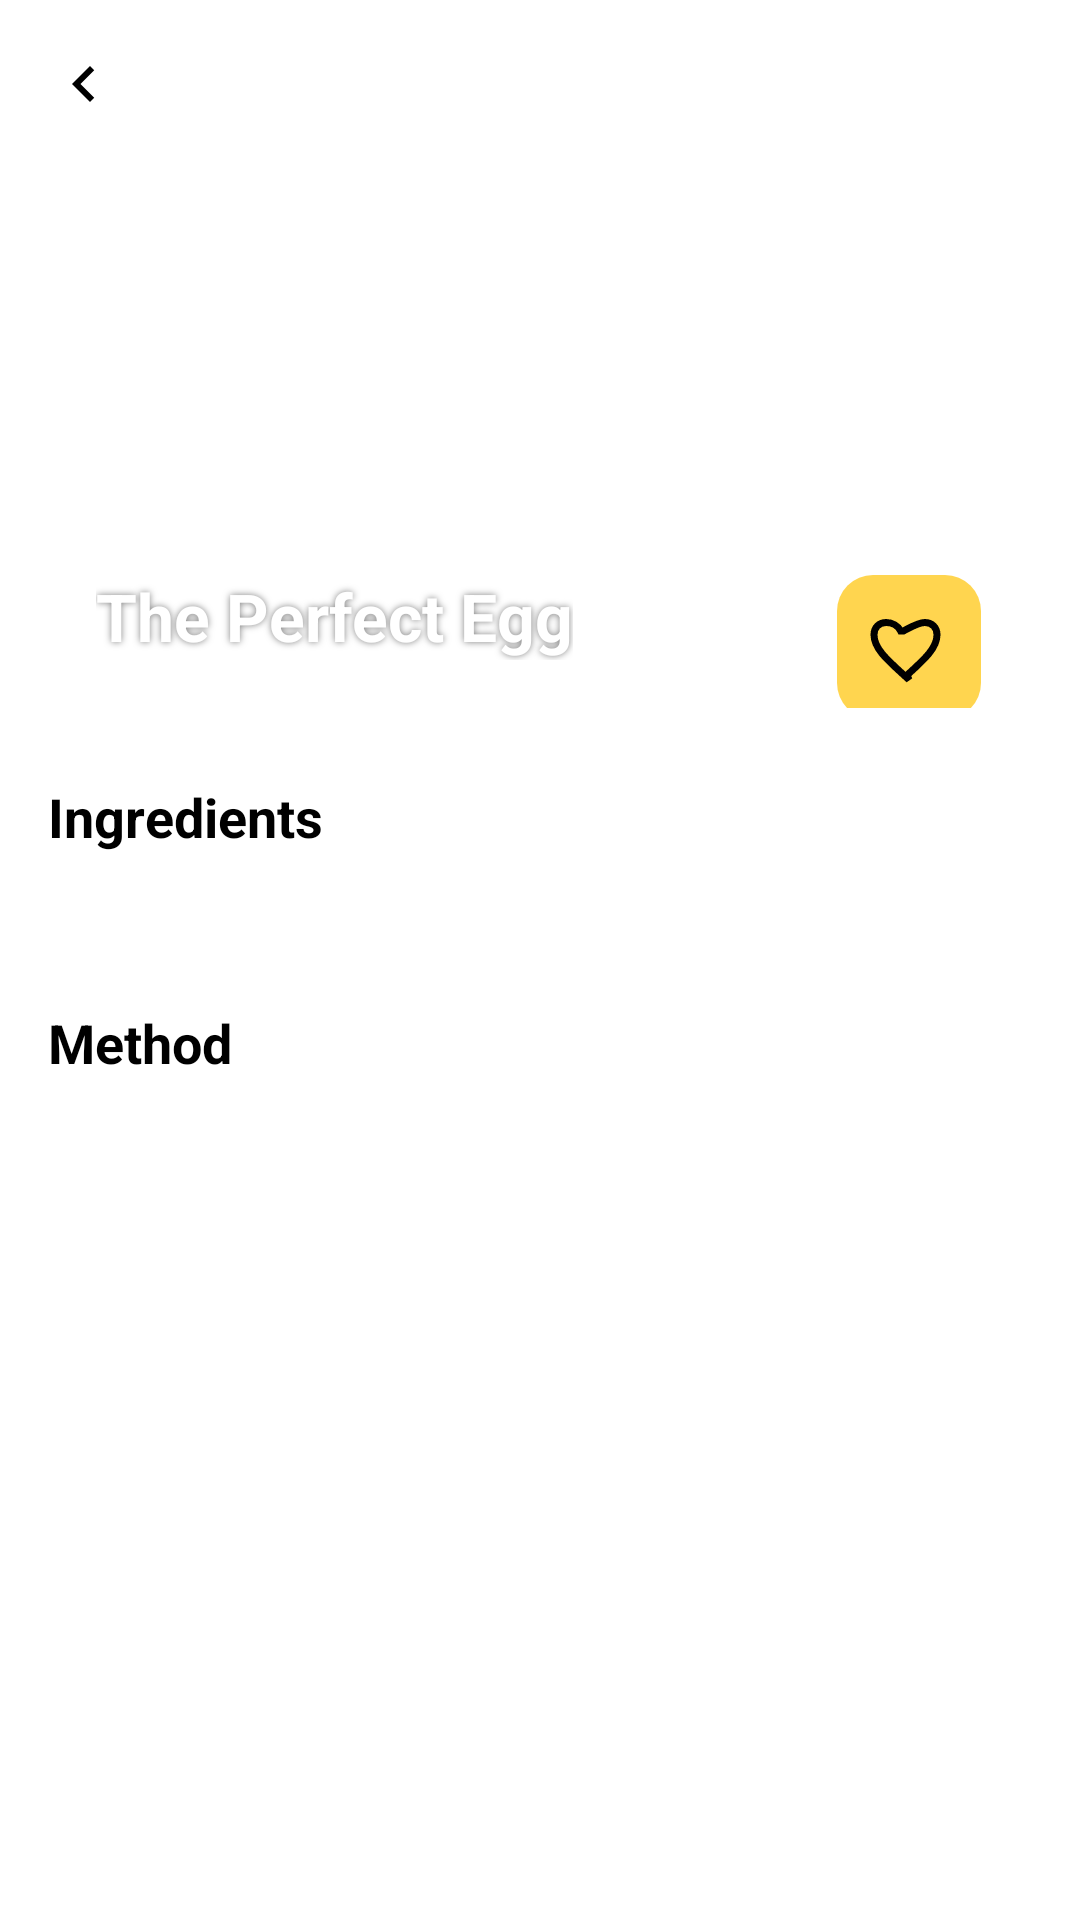

Icons on this 1080px×1920px Android screen, each with its box as (x1, y1, x2, y2):
Back button: (72, 66, 94, 102)
Favorite: (837, 575, 981, 708)
